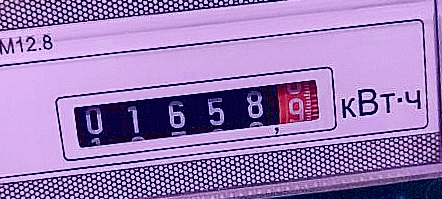0: (81, 102, 105, 136)
1: (125, 102, 141, 134)
5: (205, 93, 227, 127)
6: (165, 97, 188, 130)
8: (243, 87, 266, 121)
9: (284, 94, 305, 122)
screen: (46, 55, 344, 167)
